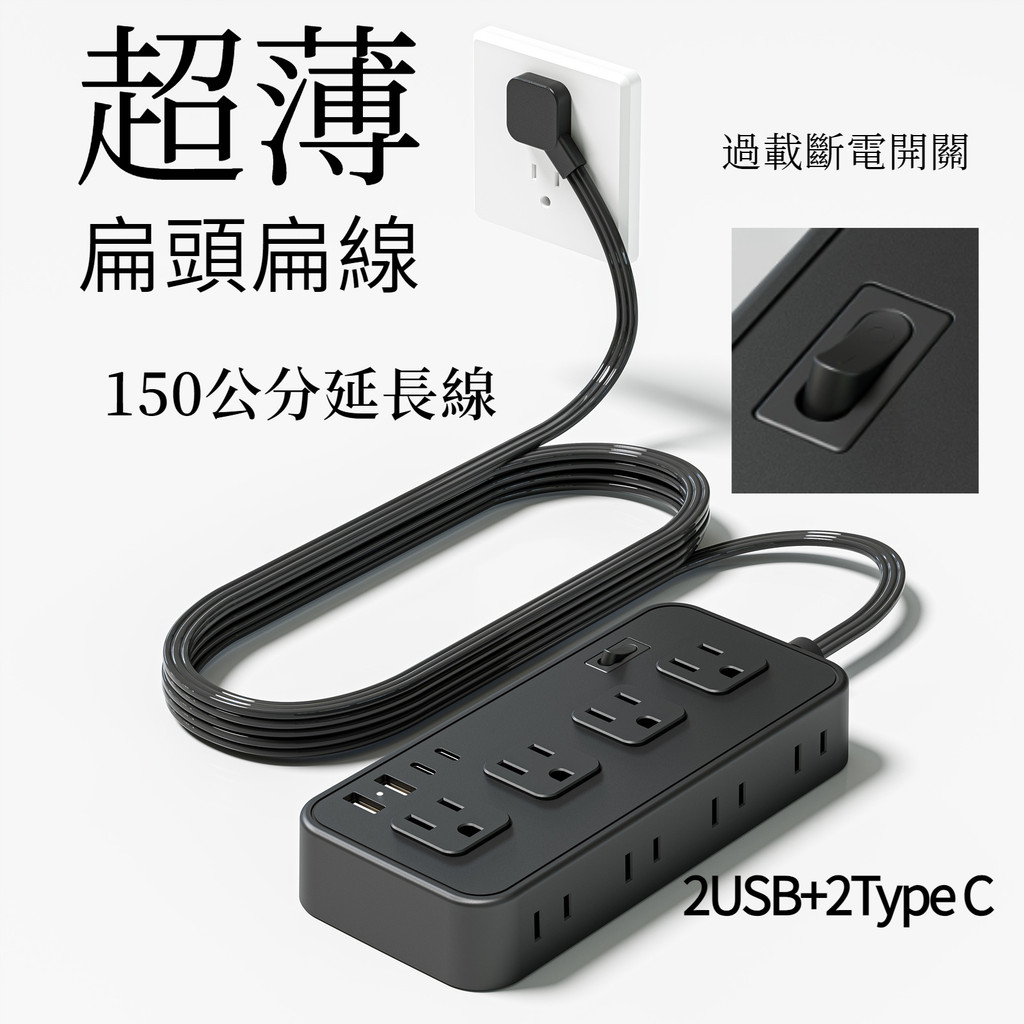socket: (141, 28, 908, 993)
